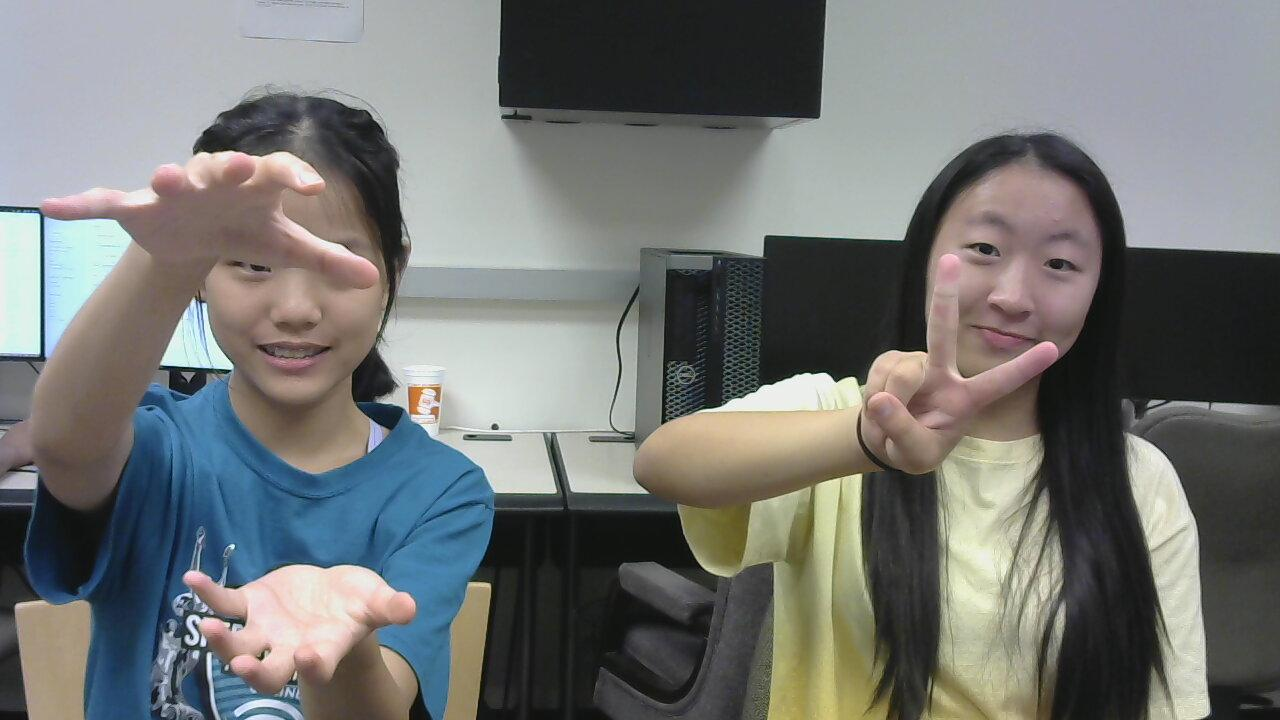hands: (37, 142, 398, 313), (176, 540, 418, 700)
peace: (849, 227, 1077, 497)
